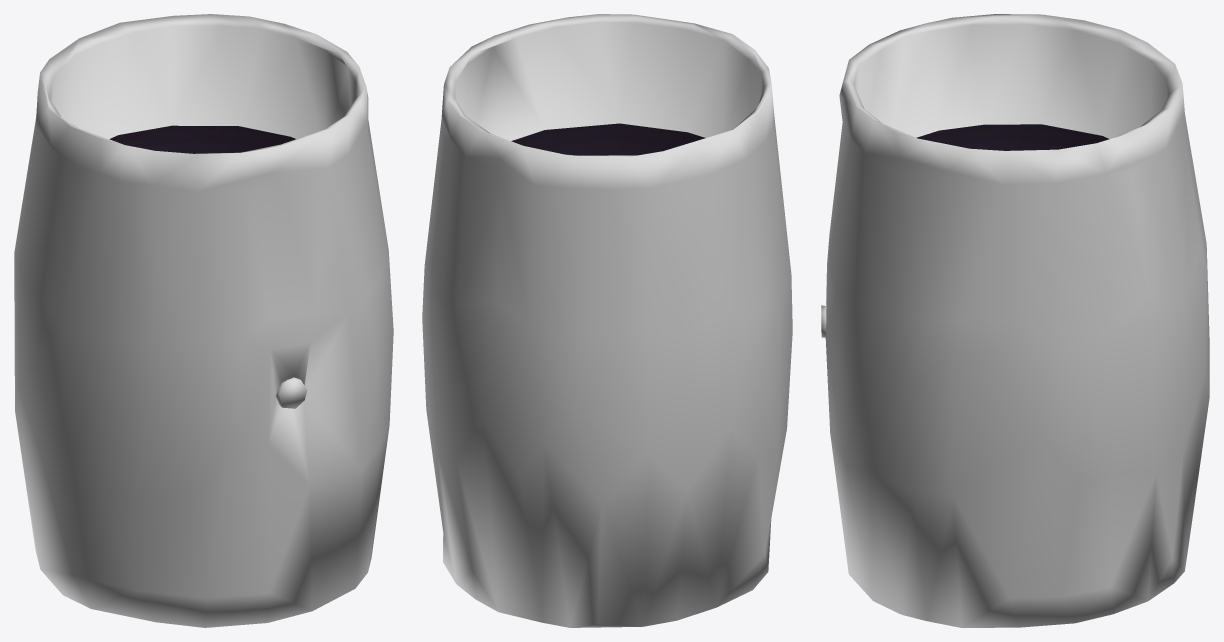
File: Open Full Wooden Wine Barrel Cask.fbx
The picture shows the model from 3 angles, left to right: view 1: azimuth 30°, elevation 25°; view 2: azimuth 150°, elevation 25°; view 3: azimuth 270°, elevation 25°; orthographic projection.
Parts seen in each view (by area): view 1: Open Full Wooden Wine Barrel Cask; view 2: Open Full Wooden Wine Barrel Cask; view 3: Open Full Wooden Wine Barrel Cask.
Boxes of the visible parts, x1,y1,x2,y2 form: Open Full Wooden Wine Barrel Cask: [14, 14, 393, 627]; Open Full Wooden Wine Barrel Cask: [422, 14, 792, 627]; Open Full Wooden Wine Barrel Cask: [821, 14, 1209, 627].
Bounding box in the file's own units: 67.93 × 96.21 × 70.67.
2 materials, 1 textured.
